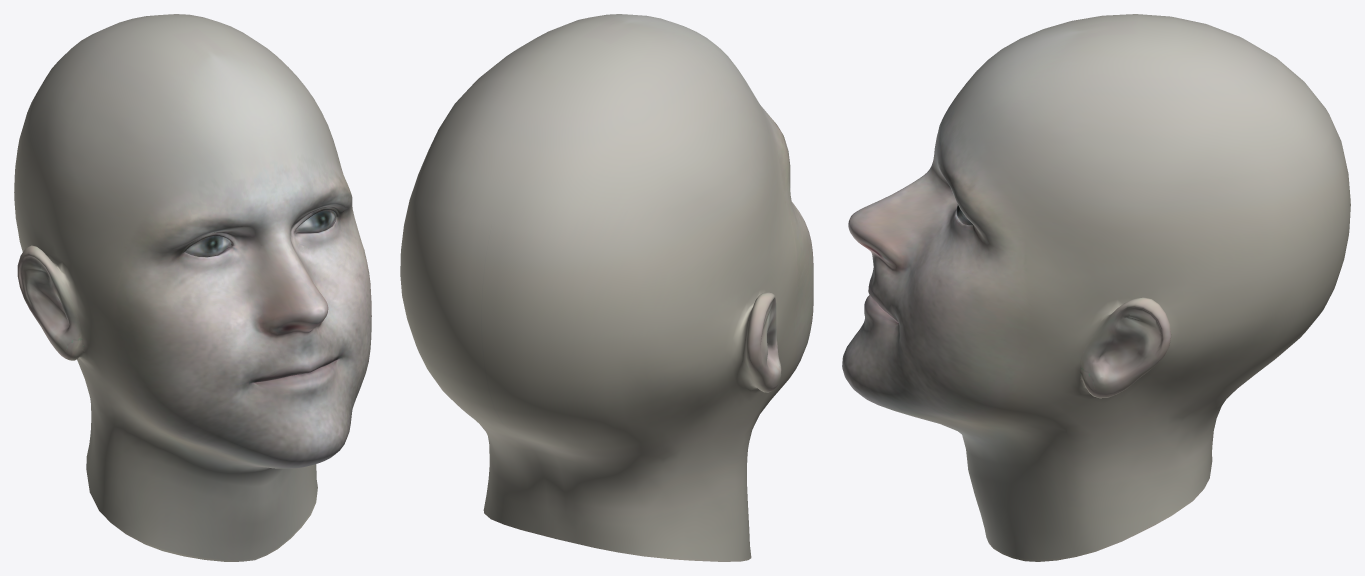
3 views of the same model, side by side, from view 1: azimuth 30°, elevation 25°; view 2: azimuth 150°, elevation 25°; view 3: azimuth 270°, elevation 25° (orthographic). The views are drawn at different scales.
Visible parts, largest first — view 1: skin_hi, eyeR_hi, eyeL_hi; view 2: skin_hi; view 3: skin_hi.
Part boxes in pixels (left/top/right/bottom): skin_hi: left=14, top=14, right=371, bottom=561; eyeR_hi: left=185, top=235, right=231, bottom=257; eyeL_hi: left=295, top=210, right=336, bottom=233; skin_hi: left=400, top=14, right=813, bottom=561; skin_hi: left=842, top=14, right=1350, bottom=561.
Bounding box in the file's own units: 189 × 279 × 252.
Materials: 3 (3 with a texture image).
